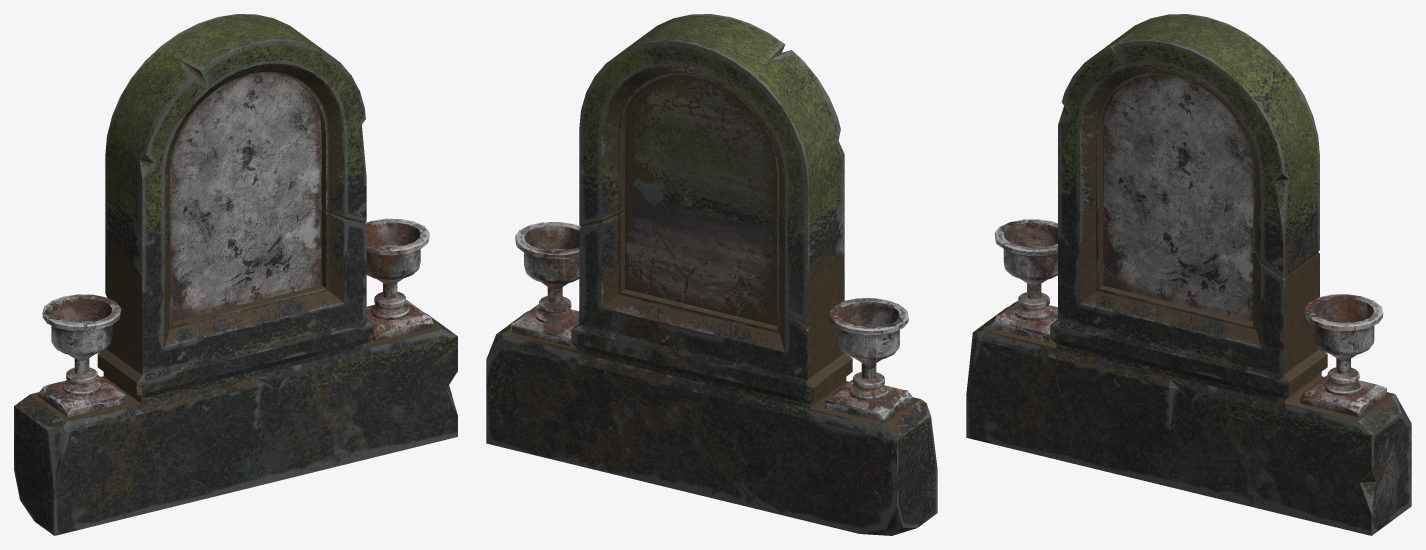
Rendered from gravestone_02.fbx.
3 renders of one model, left to right at view 1: azimuth 30°, elevation 25°; view 2: azimuth 150°, elevation 25°; view 3: azimuth 330°, elevation 25°, orthographic.
Visible parts, largest first — view 1: grave_stone_02.001; view 2: grave_stone_02.001; view 3: grave_stone_02.001.
Part boxes in pixels (x1,y1,x2,y2): grave_stone_02.001: (14,14,457,535); grave_stone_02.001: (486,14,937,535); grave_stone_02.001: (966,14,1411,535).
Size of the model in its own units: 95.38 by 99.46 by 17.2.
Materials: 1 (1 with a texture image).
